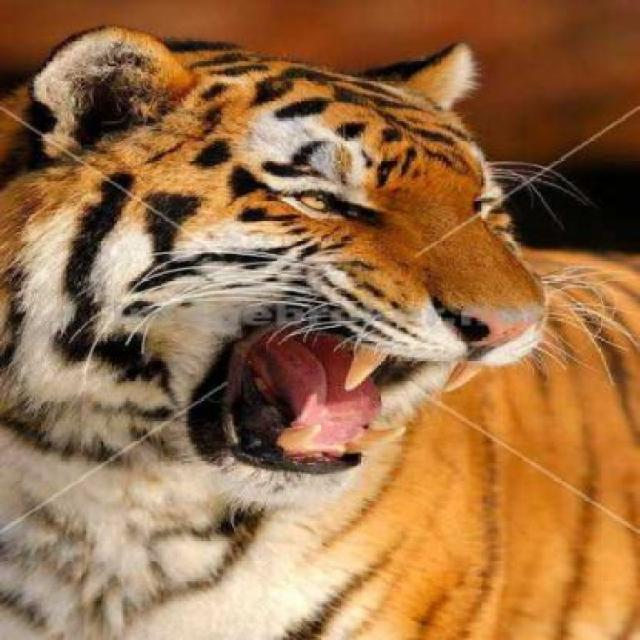tiger: (0, 22, 639, 639)
